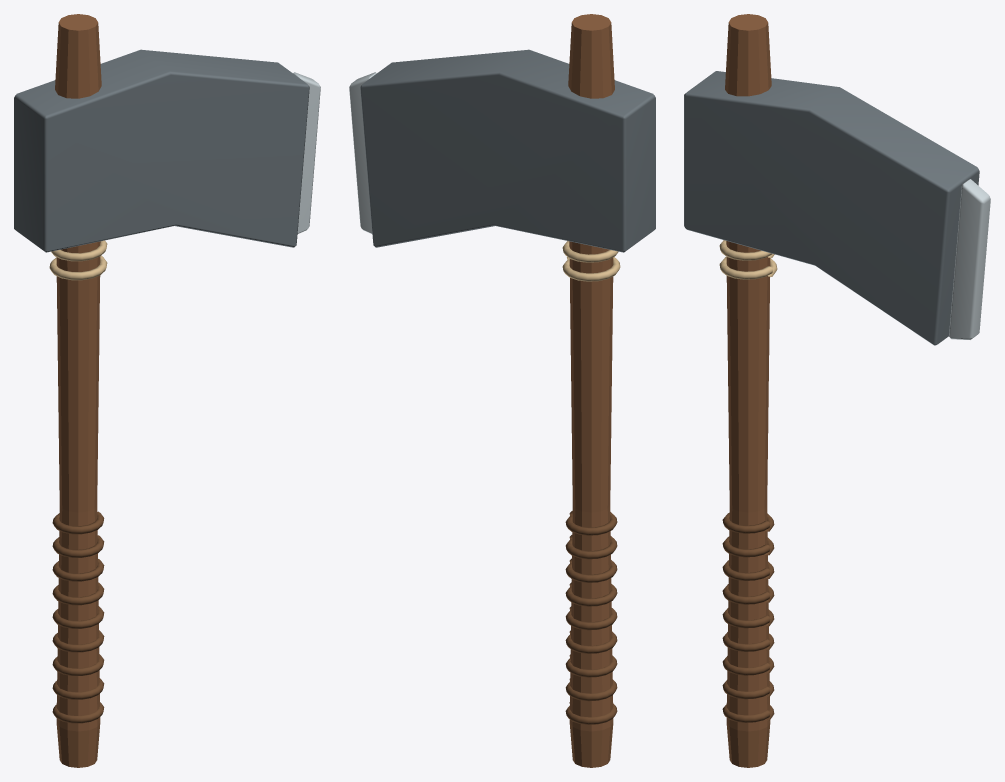
File: HanForgedAxe.fbx
3 views of the same model, side by side, from view 1: azimuth 30°, elevation 25°; view 2: azimuth 150°, elevation 25°; view 3: azimuth 330°, elevation 25° (orthographic).
Visible parts, largest first — view 1: HanForgedAxe; view 2: HanForgedAxe; view 3: HanForgedAxe.
Boxes of the visible parts, box(x1,y1,x2,y2) form: HanForgedAxe: box(14, 14, 320, 767); HanForgedAxe: box(349, 14, 655, 767); HanForgedAxe: box(684, 14, 990, 767).
Size of the model in its own units: 31.97 by 78 by 6.2.
